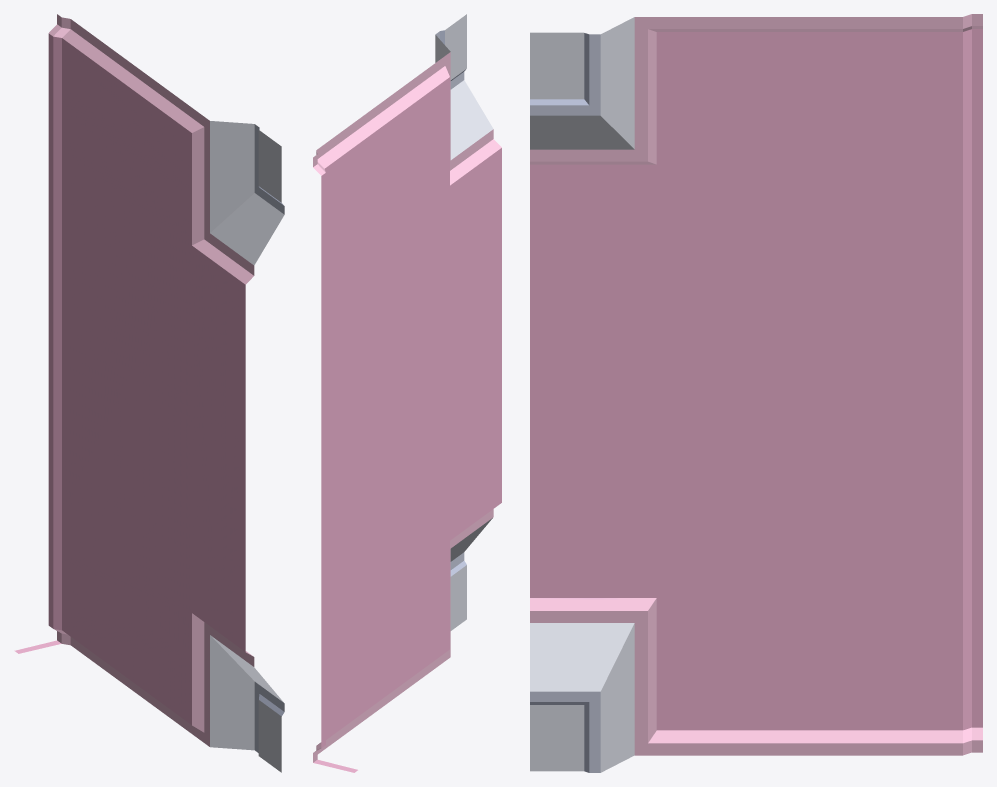
Rendered from WallPanel_MidLeft.fbx.
3 renders of one model, left to right at view 1: azimuth 30°, elevation 25°; view 2: azimuth 150°, elevation 25°; view 3: azimuth 270°, elevation 25°, orthographic. The views are drawn at different scales.
Visible parts, largest first — view 1: Left; view 2: Left; view 3: Left.
Boxes of the visible parts, x1,y1,x2,y2 form: Left: (14, 14, 284, 772); Left: (313, 14, 501, 772); Left: (530, 14, 982, 772).
Bounding box in the file's own units: 47.07 × 360 × 200.
Materials: 1 (1 with a texture image).
